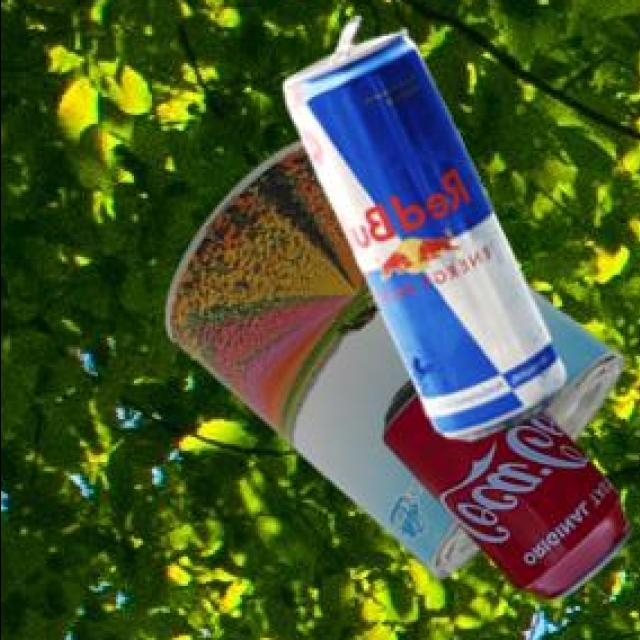logam: (168, 143, 483, 580), (285, 19, 567, 443), (386, 382, 632, 603)
